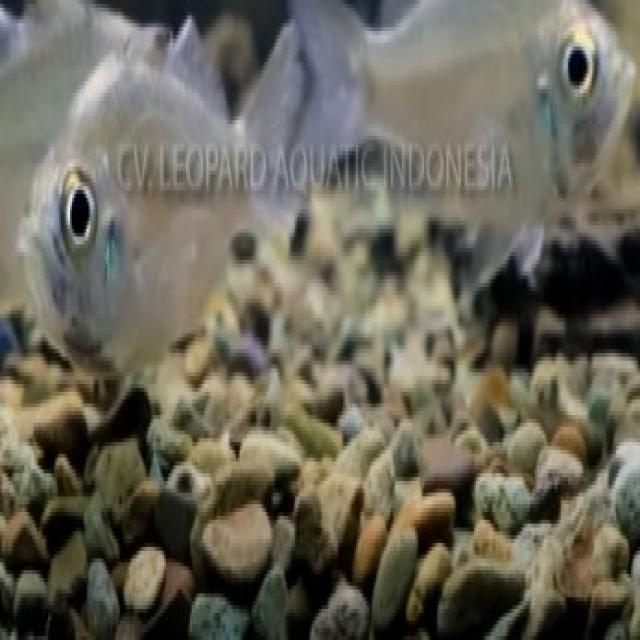Glass-Perchlet: (2, 0, 310, 381), (283, 0, 640, 326)
